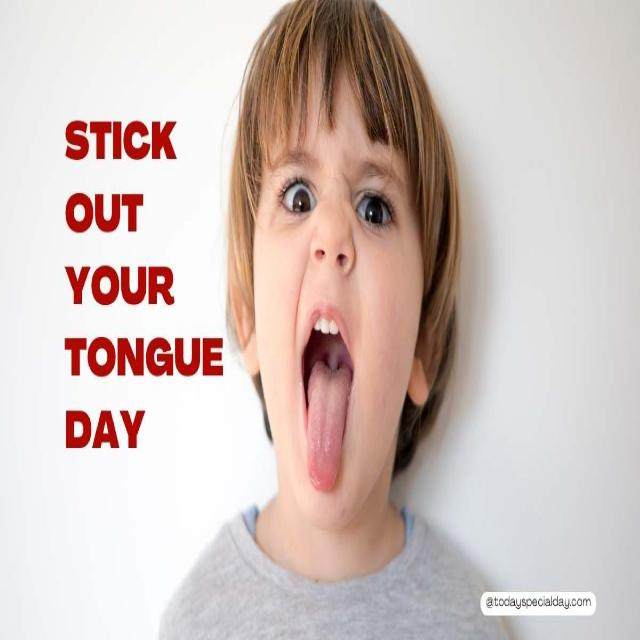tongue: (304, 358, 353, 496)
